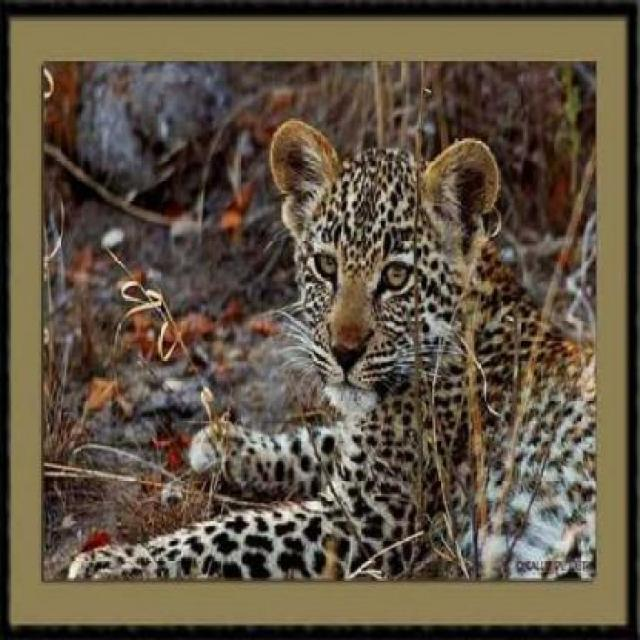Leopard: (181, 97, 593, 577)
